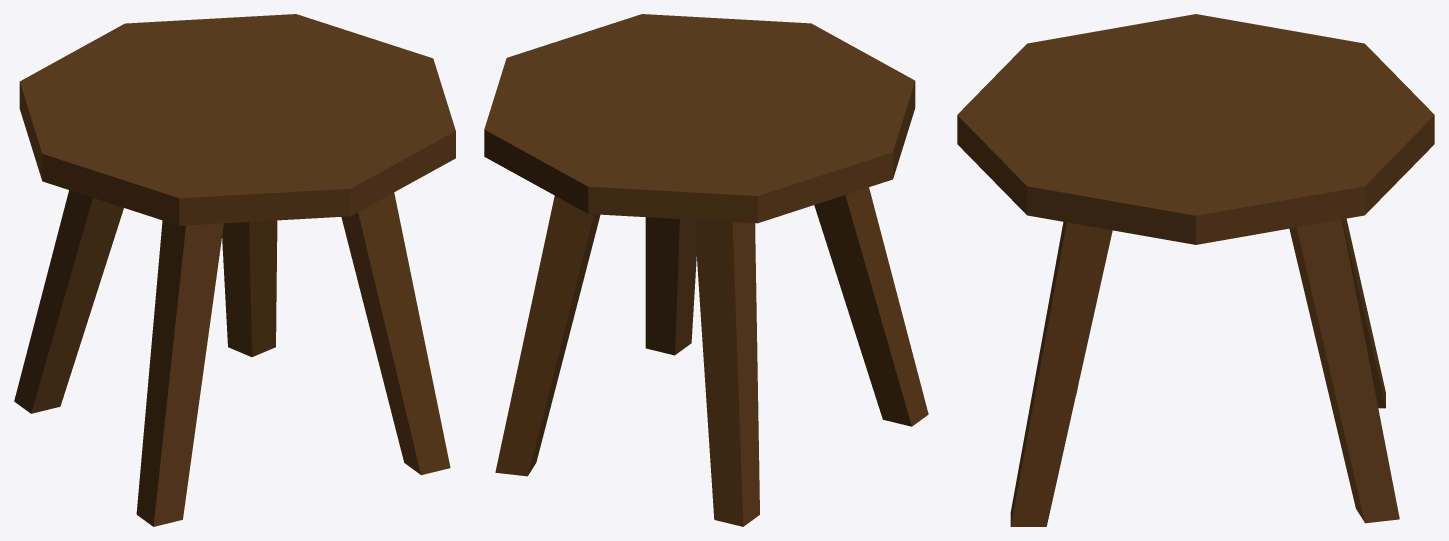
Rendered from Bathroom2_stool_231109.glb.
The picture shows the model from 3 angles, left to right: view 1: azimuth 30°, elevation 25°; view 2: azimuth 150°, elevation 25°; view 3: azimuth 270°, elevation 25°; orthographic projection. The views are drawn at different scales.
Parts seen in each view (by area): view 1: Bathroom2_stool; view 2: Bathroom2_stool; view 3: Bathroom2_stool.
Boxes of the visible parts, left/top/right/bottom form: Bathroom2_stool: left=14, top=14, right=455, bottom=526; Bathroom2_stool: left=484, top=14, right=928, bottom=526; Bathroom2_stool: left=957, top=14, right=1434, bottom=526.
Bounding box in the file's own units: 0.6974 × 0.5597 × 0.6974.
Materials: 1 (1 with a texture image).
